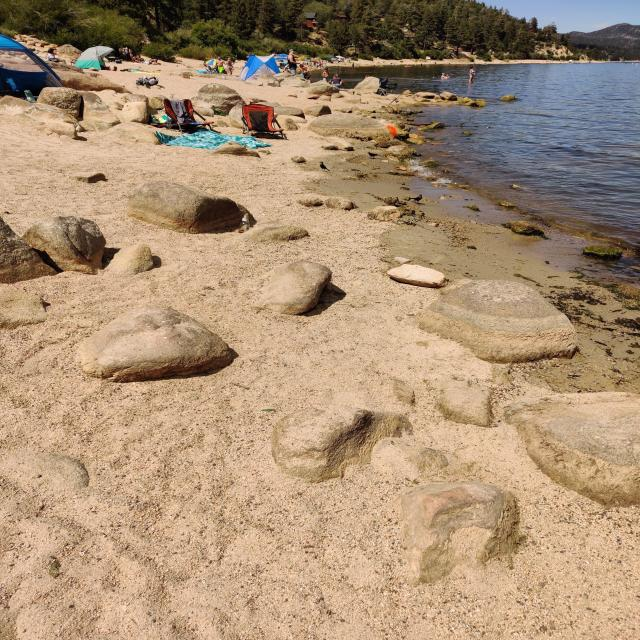litter: (119, 94, 312, 153)
